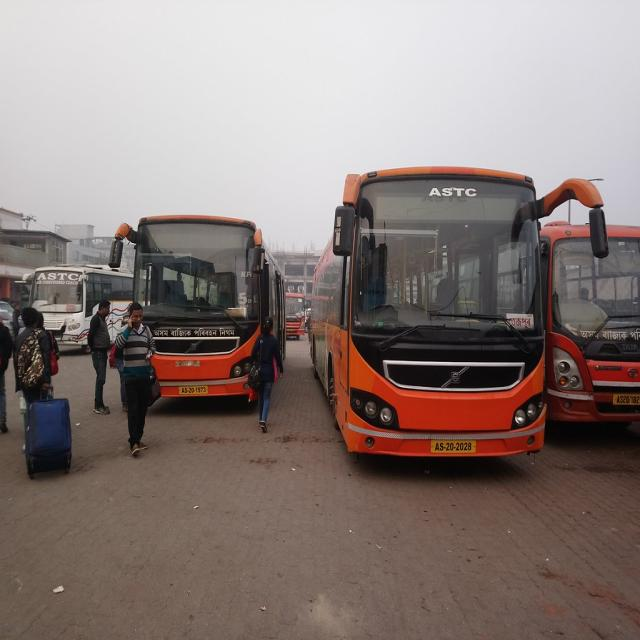bus: (310, 166, 609, 456), (109, 215, 284, 398), (540, 221, 640, 424), (30, 265, 134, 350)
